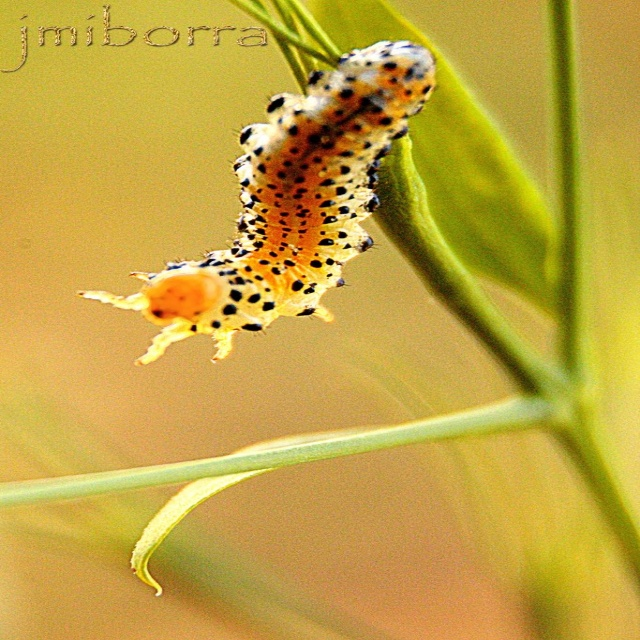Caterpillar: (78, 39, 434, 361)
